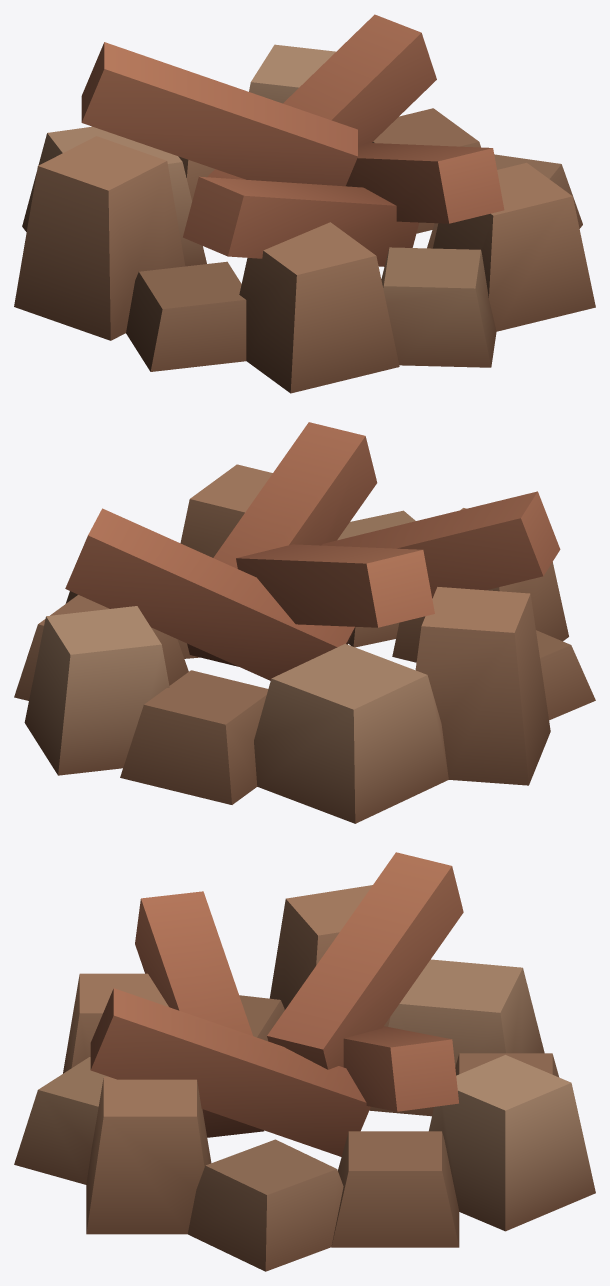
File: campfire-pit.glb
3 renders of one model, top to bottom at view 1: azimuth 30°, elevation 25°; view 2: azimuth 150°, elevation 25°; view 3: azimuth 270°, elevation 25°, orthographic. The views are drawn at different scales.
Visible parts, largest first — view 1: campfire-pit; view 2: campfire-pit; view 3: campfire-pit.
Part boxes in pixels (box(x1,y1,x2,y2)): campfire-pit: box(14, 14, 595, 393); campfire-pit: box(14, 422, 595, 823); campfire-pit: box(14, 852, 595, 1271).
Bounding box in the file's own units: 1.27 × 0.5 × 1.23.
